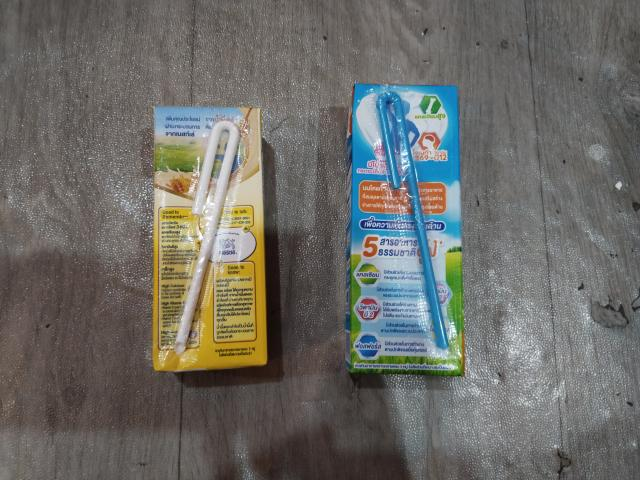drink_box: (343, 78, 468, 374), (149, 100, 270, 378)
